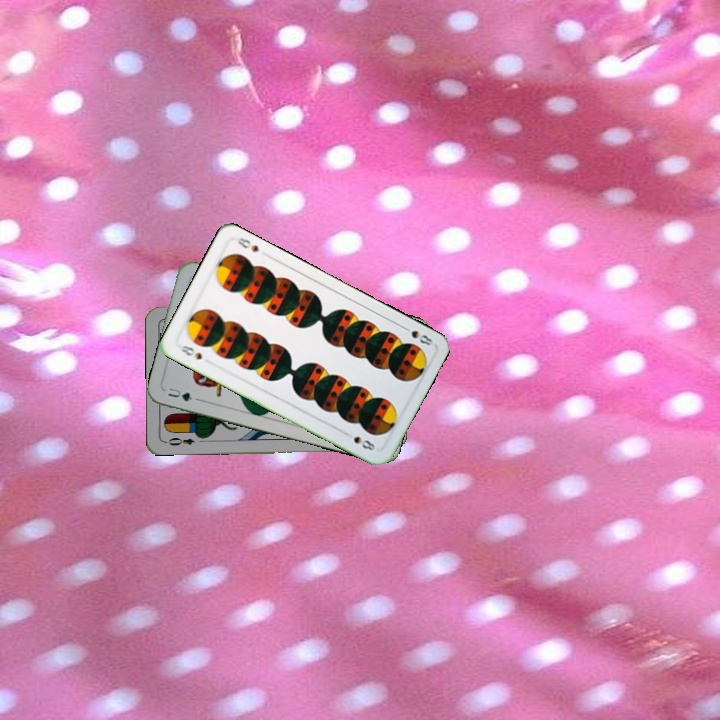EO: (161, 434, 197, 448)
GU: (164, 383, 195, 404)
S8: (398, 322, 435, 348), (176, 341, 205, 362)
